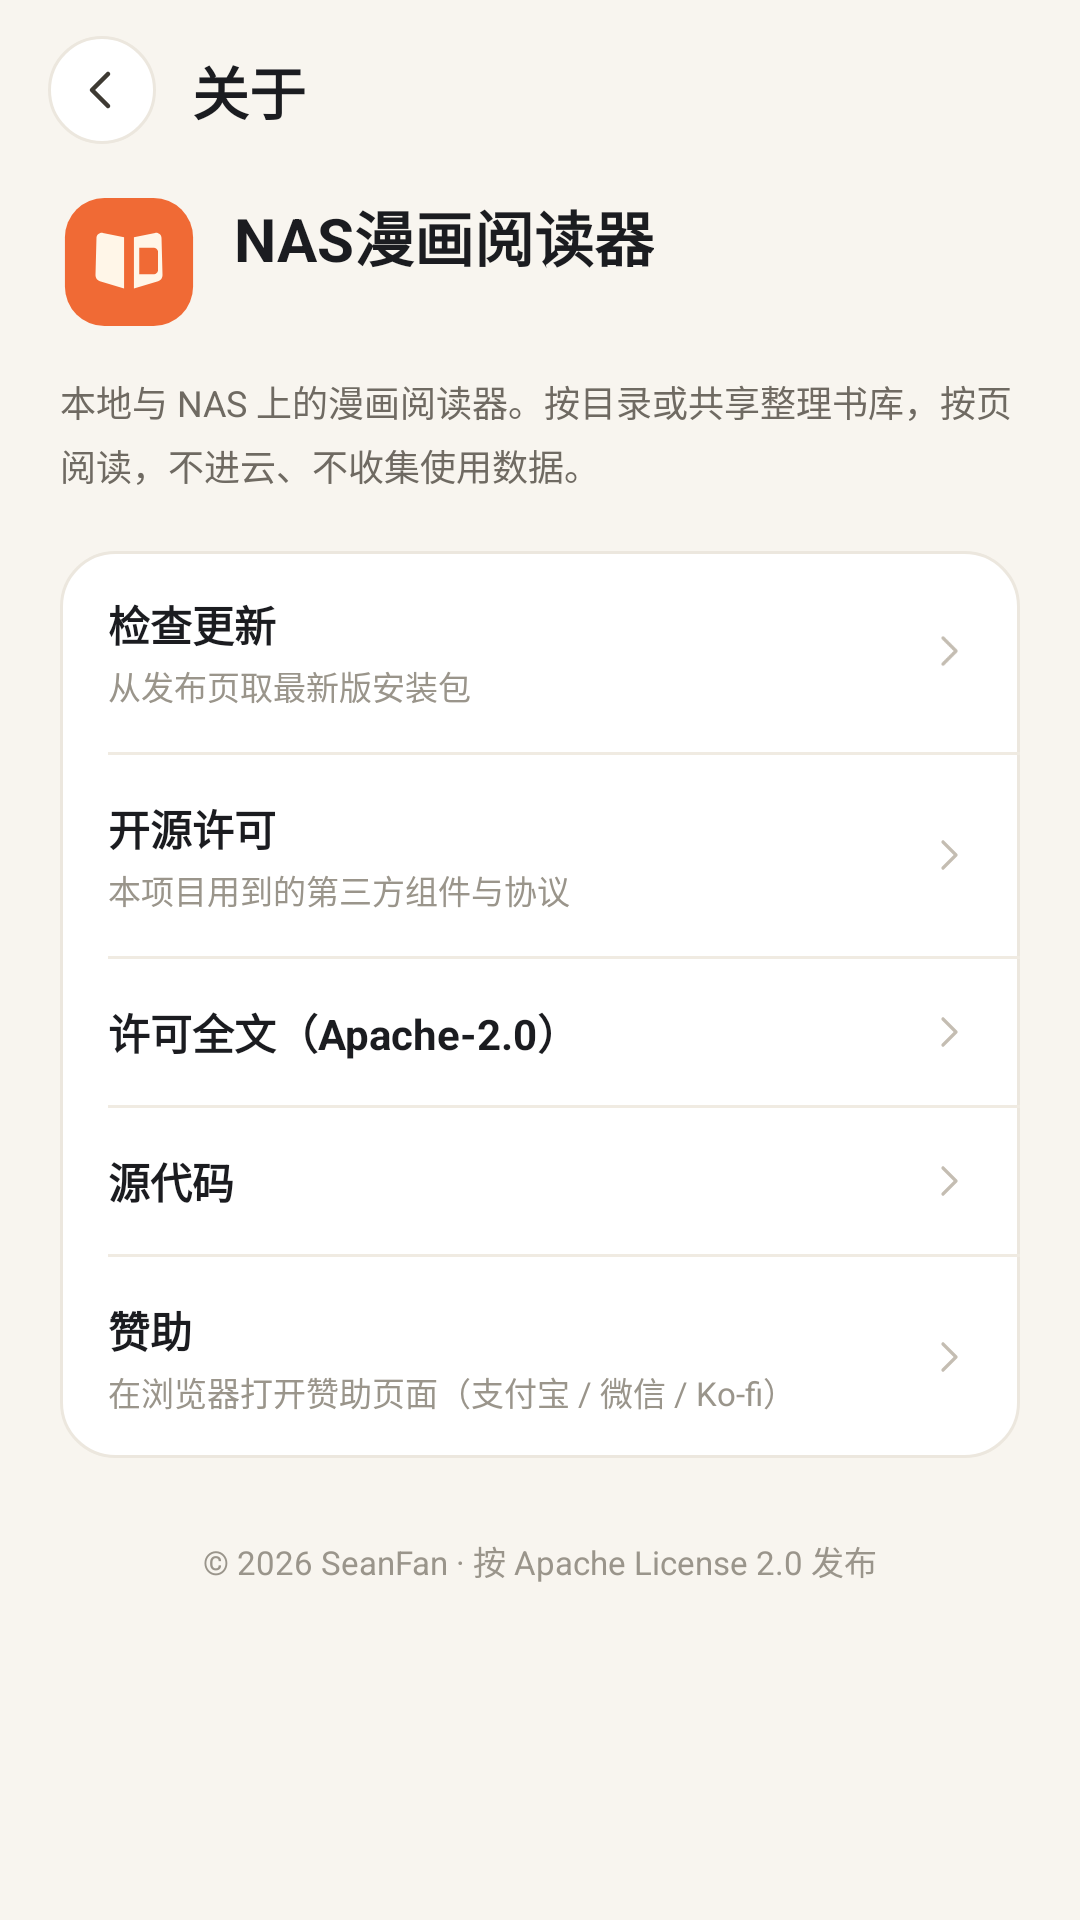

Icon bounding boxes for this 1080px×1920px phone screenshot, format box=[x1, y1, x2, y2]:
brand mark: box=[65, 198, 193, 326]
chevron right: box=[941, 636, 958, 666], box=[941, 840, 958, 870], box=[941, 1017, 958, 1047], box=[941, 1166, 958, 1196], box=[941, 1342, 958, 1372]
返回: box=[48, 36, 156, 144]
